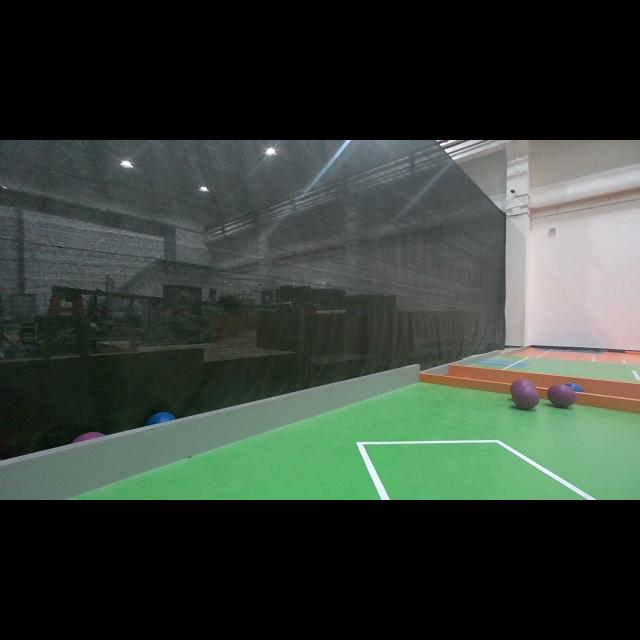P: (548, 384, 576, 408), (512, 385, 540, 409)
